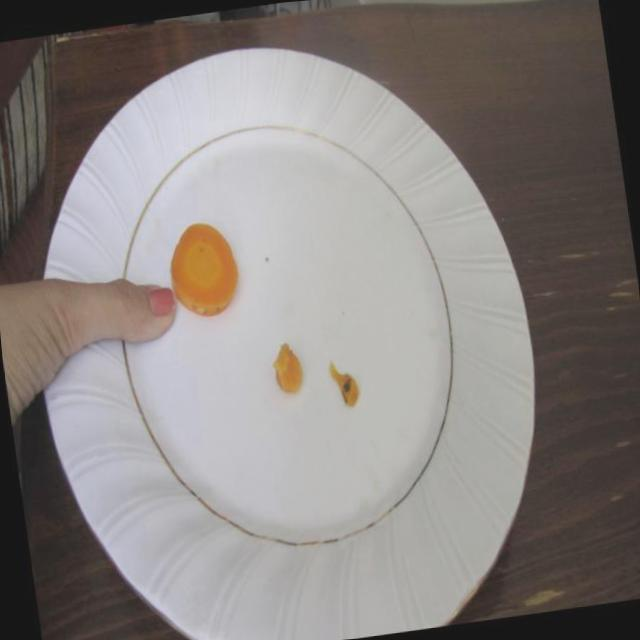Carrot: (162, 214, 250, 328)
Finger: (97, 265, 184, 357)
